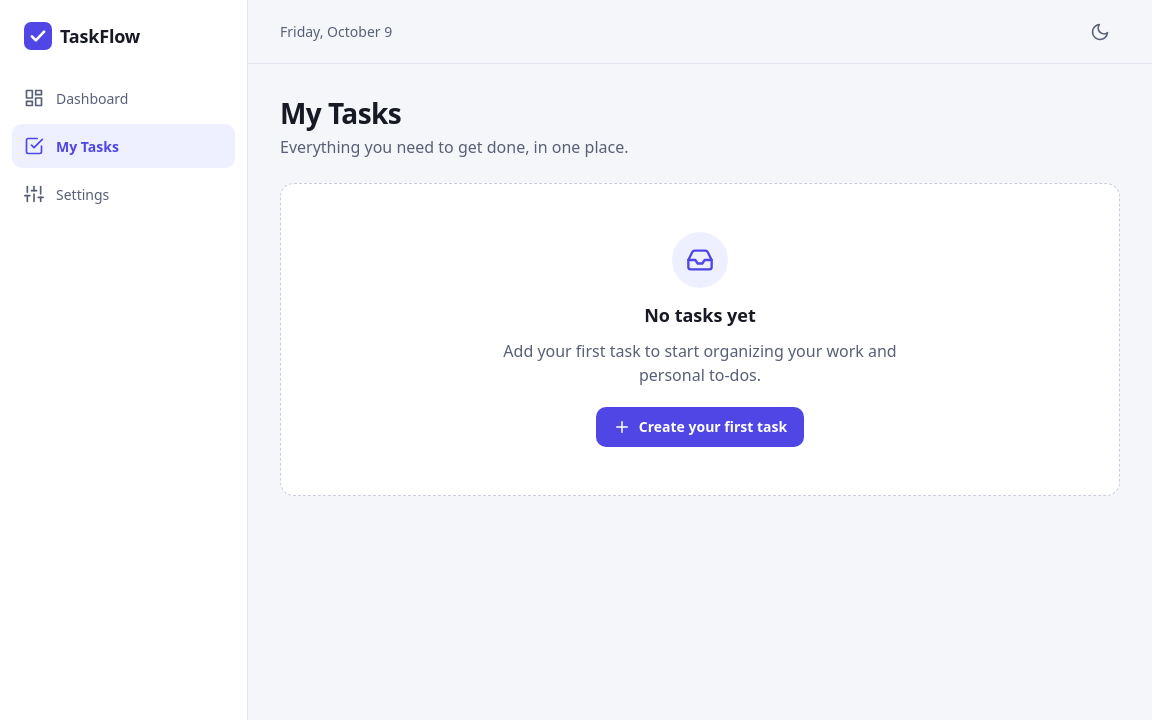
Test: empty and initial states › shows an empty state with a way to create the first task
Check: the heading "No tasks yet" is shown, box x1=644 y1=304 x2=756 y2=326
Check: the button "New task" is not shown
Click the button "Create your first task" at (700, 426), box x1=596 y1=406 x2=804 y2=446
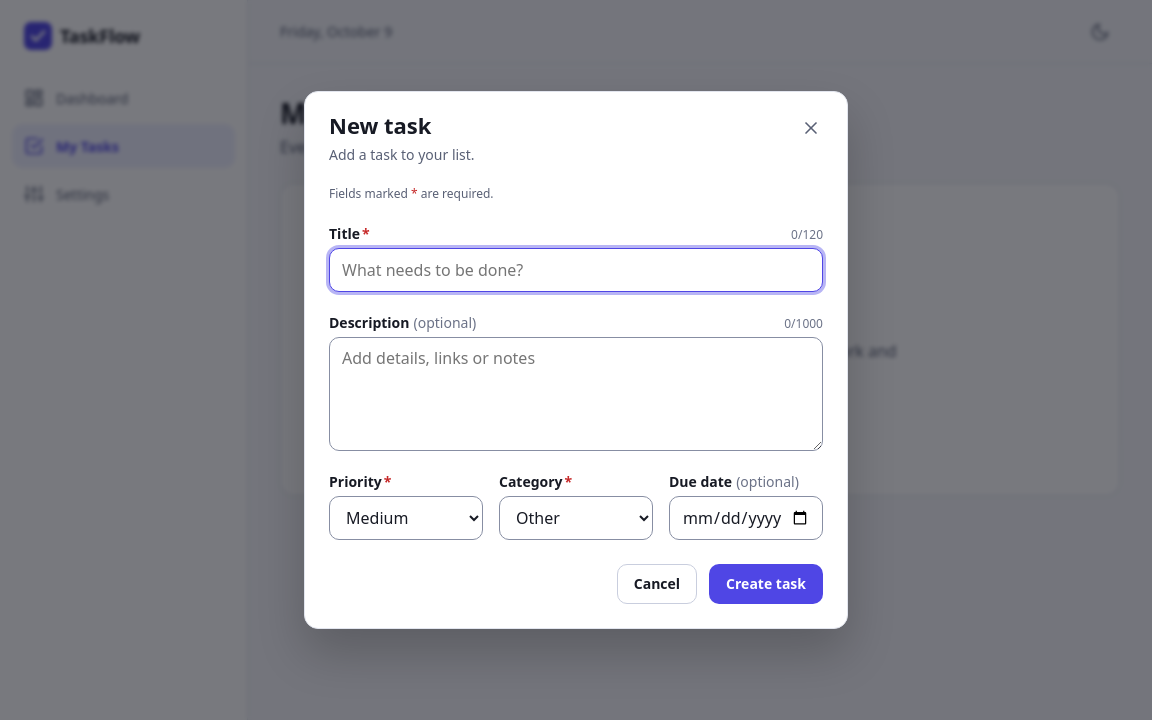
Check: the dialog "New task" is shown, box x1=304 y1=91 x2=848 y2=629
